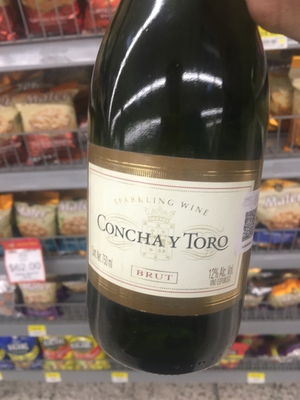brut: (85, 8, 267, 371)
